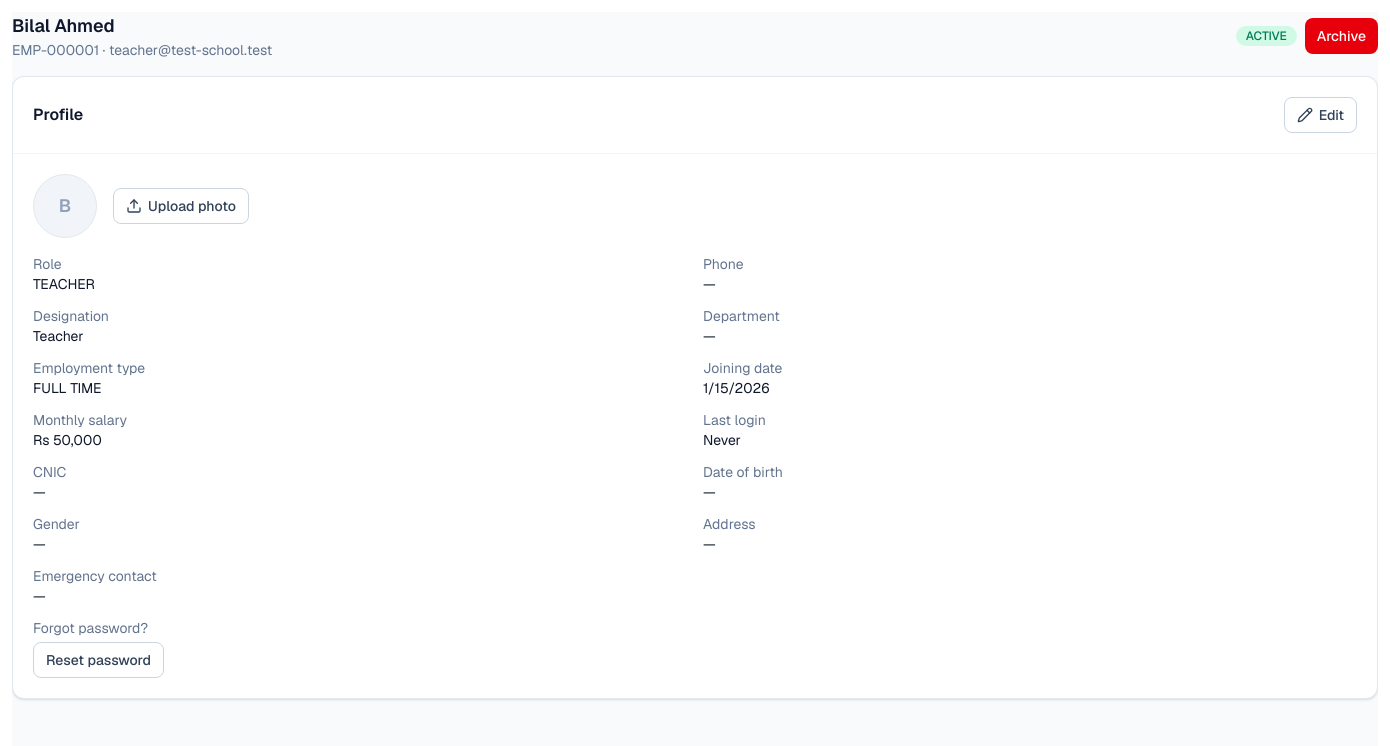
StaffDetailPage — archive › surfaces the backend's error message instead of a generic one
Expected: the heading "Bilal Ahmed" is shown, x1=12 y1=14 x2=115 y2=37
Click the button "Archive".
click(1341, 36)  # box x1=1305 y1=18 x2=1378 y2=54
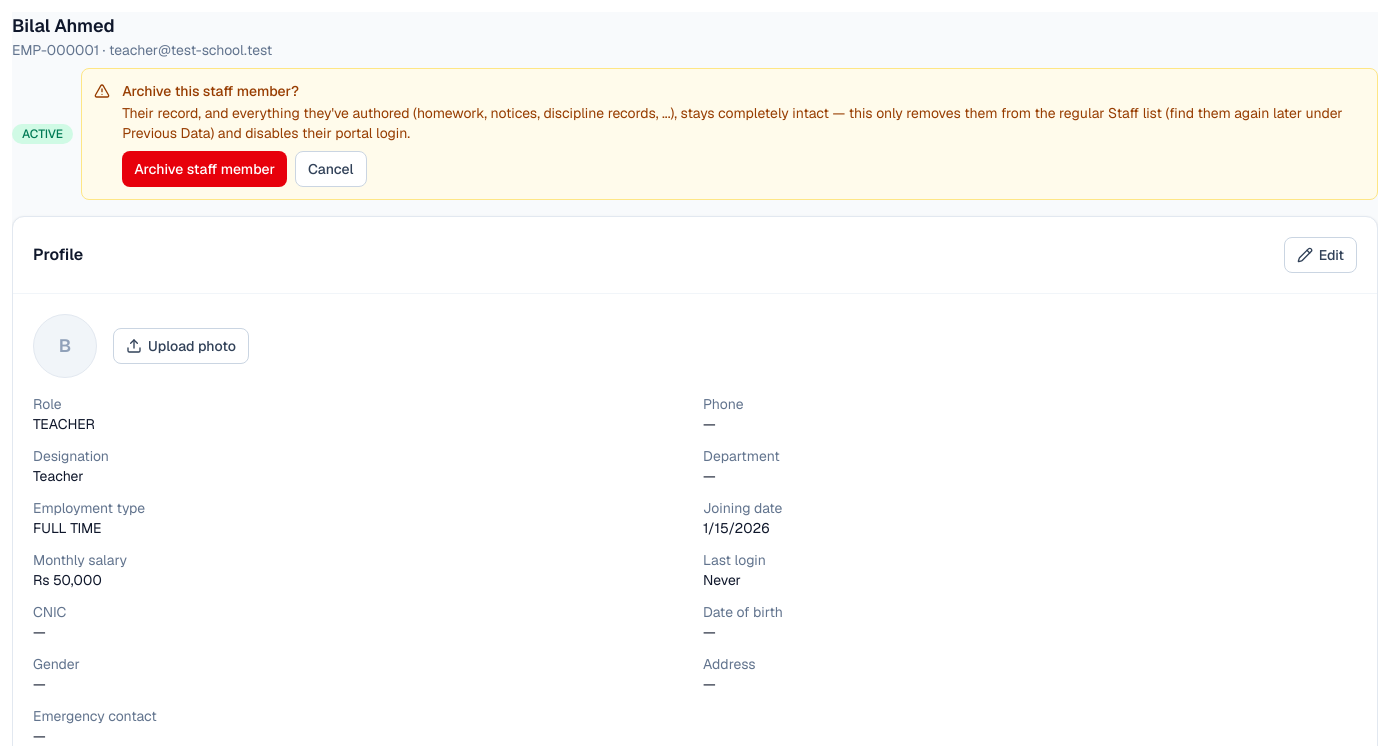
Click the button "Archive staff member".
click(204, 169)  # box x1=122 y1=151 x2=287 y2=187
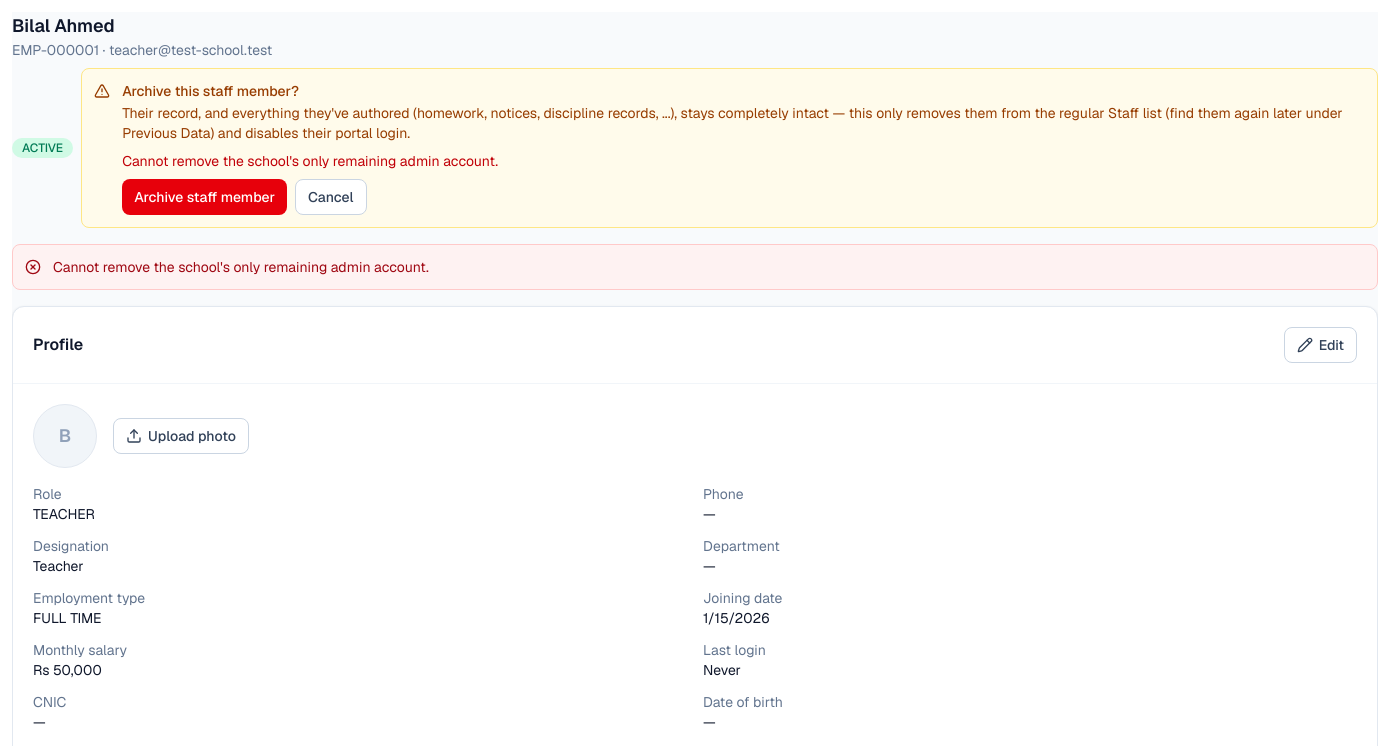
Expected: the text "Cannot remove the school's only remaining admin account." below "Archive this staff member?" is shown, x1=122 y1=152 x2=498 y2=170
